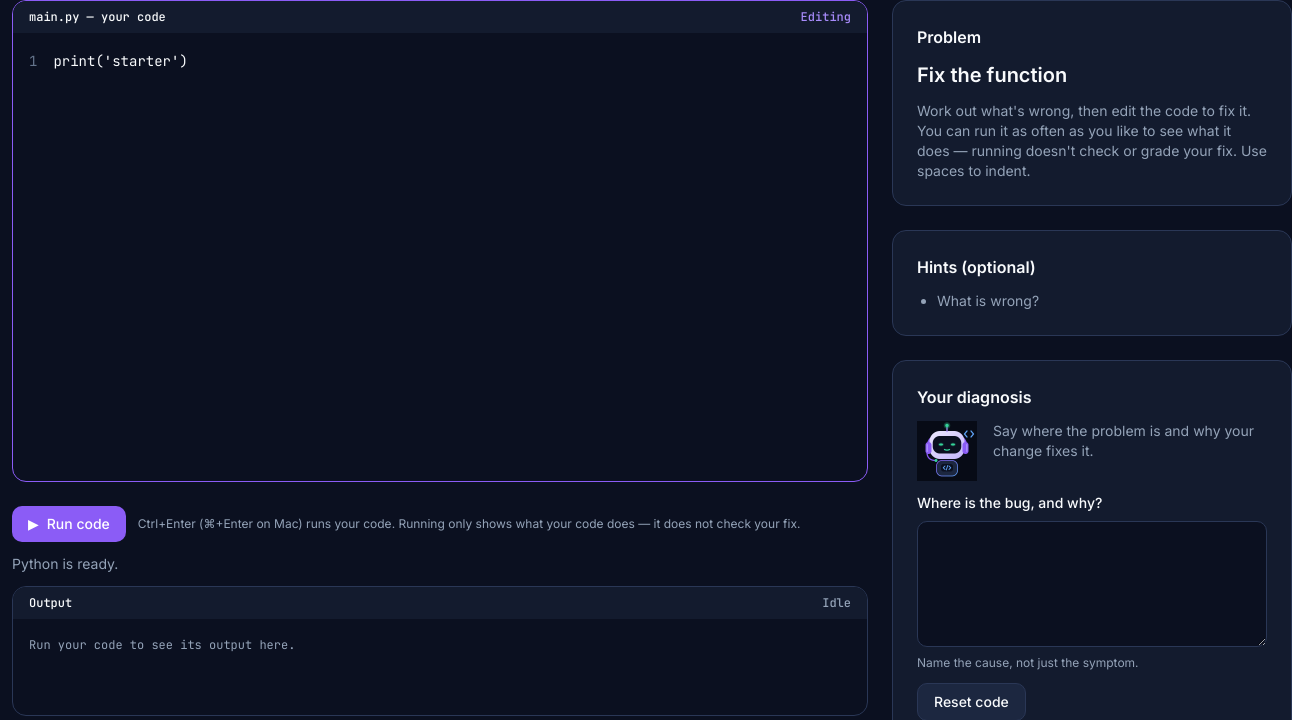
Fix stage: Run is unavailable or fails › a crashed runner (e.g. out of memory) ends the session with a reconnect option; the draft was already saved
The width and height of the screenshot is (1292, 720).
Click the button "▶ Run code": (69, 524) [12,506,126,542]
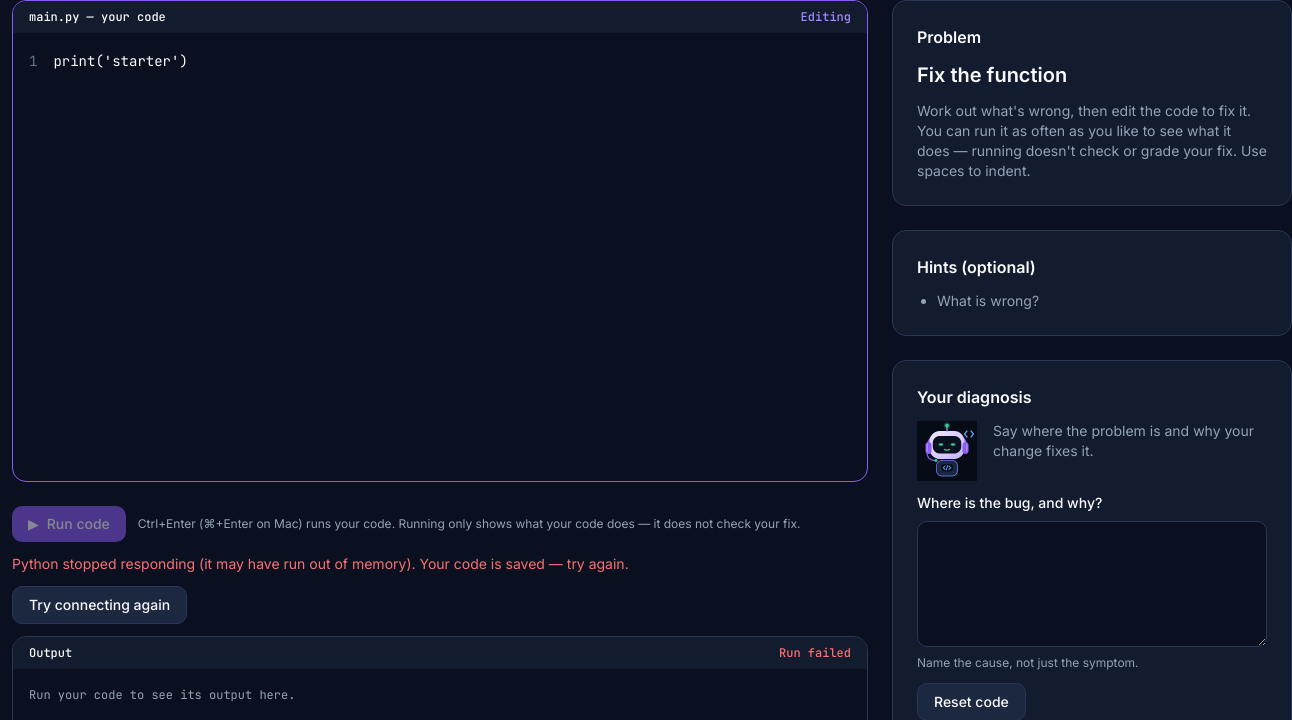
Now the message with test id "run-status" shows "out of memory", box [12,555,629,572]
Now the button "Try connecting again" is shown, box [12,586,187,624]
